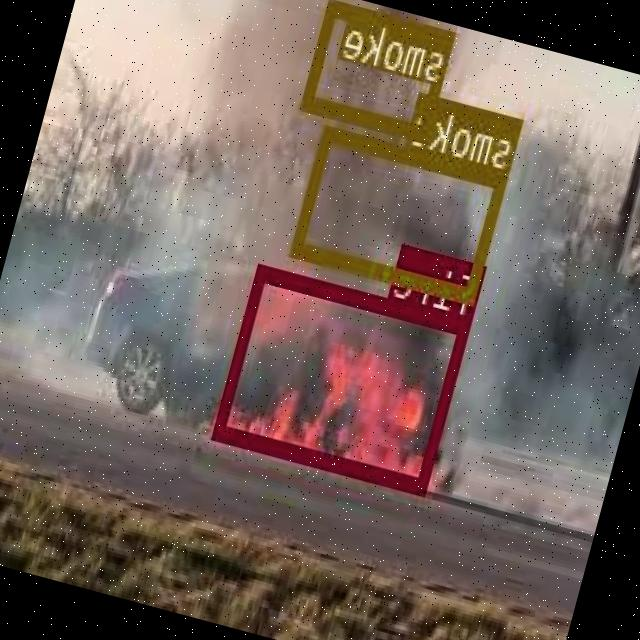fire: (215, 264, 473, 493)
smoke: (293, 124, 510, 302), (302, 0, 457, 141)
